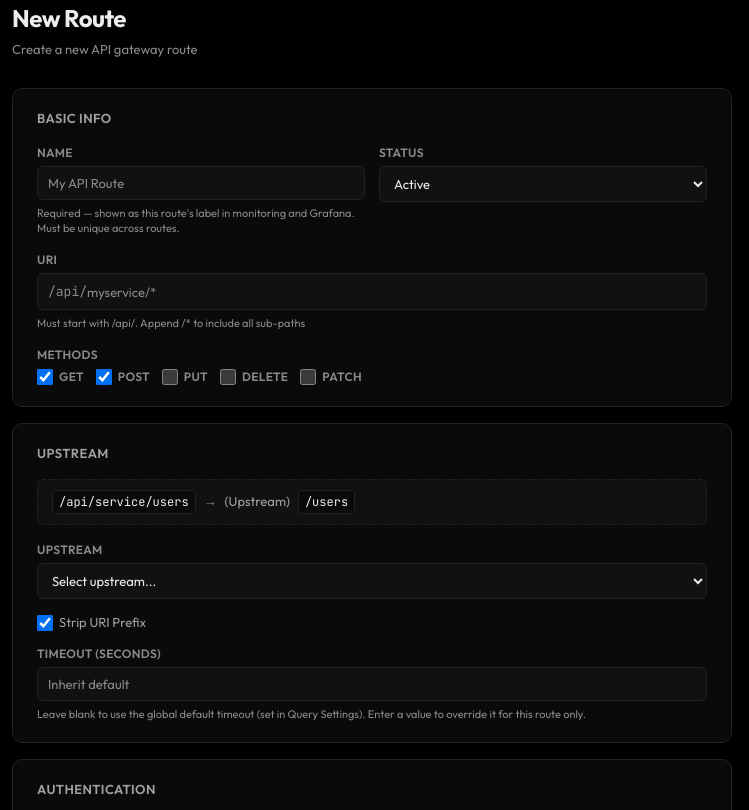
Scenario: GatewayRouteForm › shows backend and generic save errors
Type "orders-route" into the field labelled "Name" at (201, 183), box left=37, top=166, right=365, bottom=200
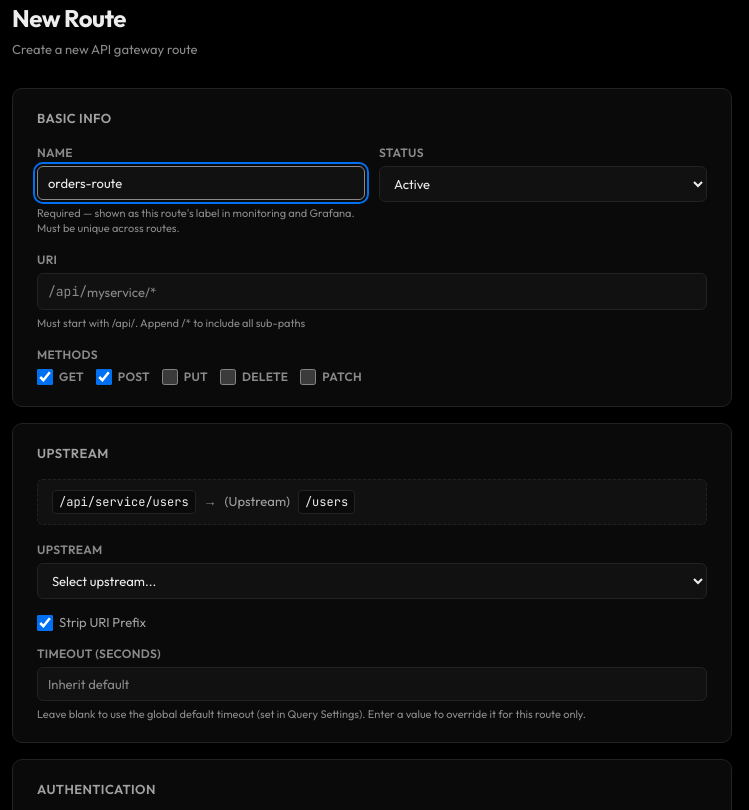
Type "orders/*" into the field labelled "URI" at (396, 292), box left=87, top=276, right=706, bottom=308
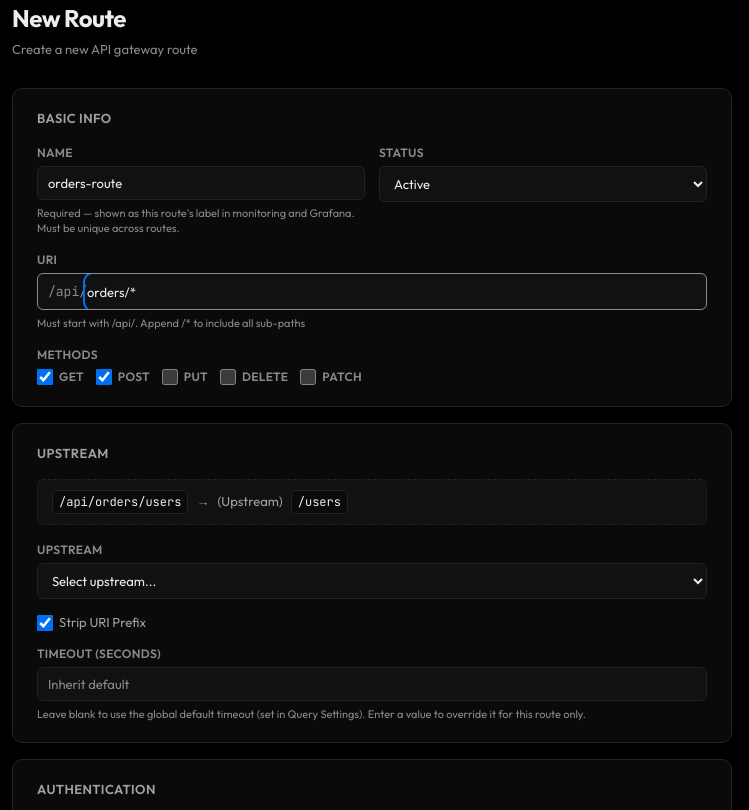
Select "test-upstream" in the dropdown labelled "Upstream" at (372, 581), box left=37, top=563, right=707, bottom=599
(page scrolled)
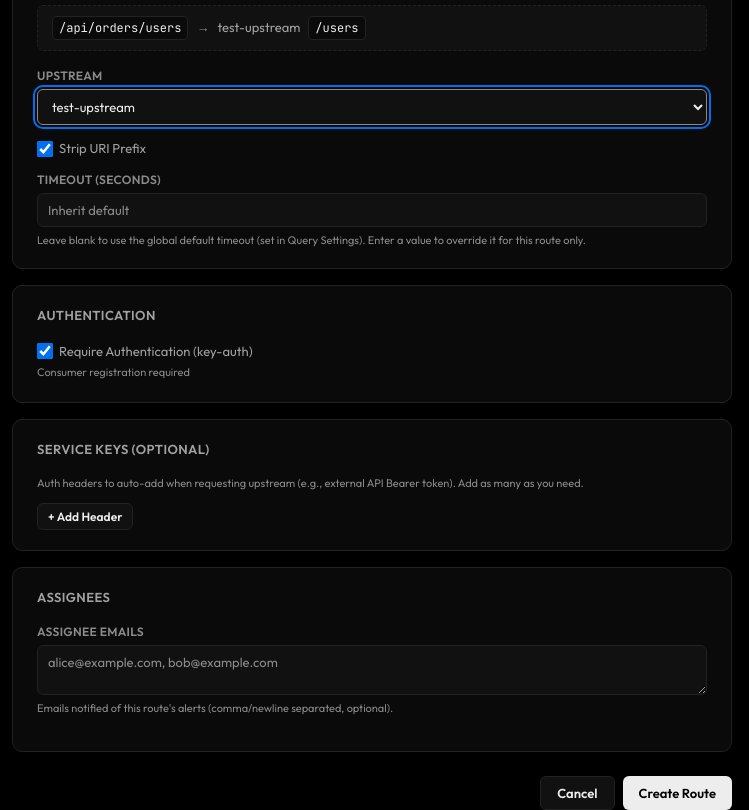
Click the button "Create Route" at (677, 793), box left=622, top=776, right=732, bottom=809
(page scrolled)
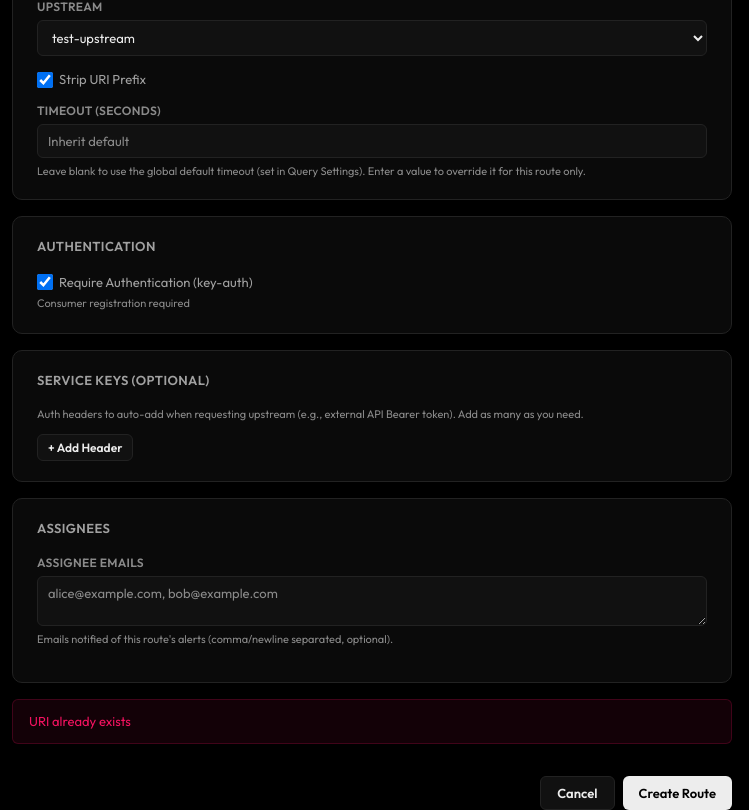
Check: the message reads "URI already exists", box left=29, top=713, right=131, bottom=729
Click the button "Create Route" at (677, 793), box left=622, top=776, right=732, bottom=809
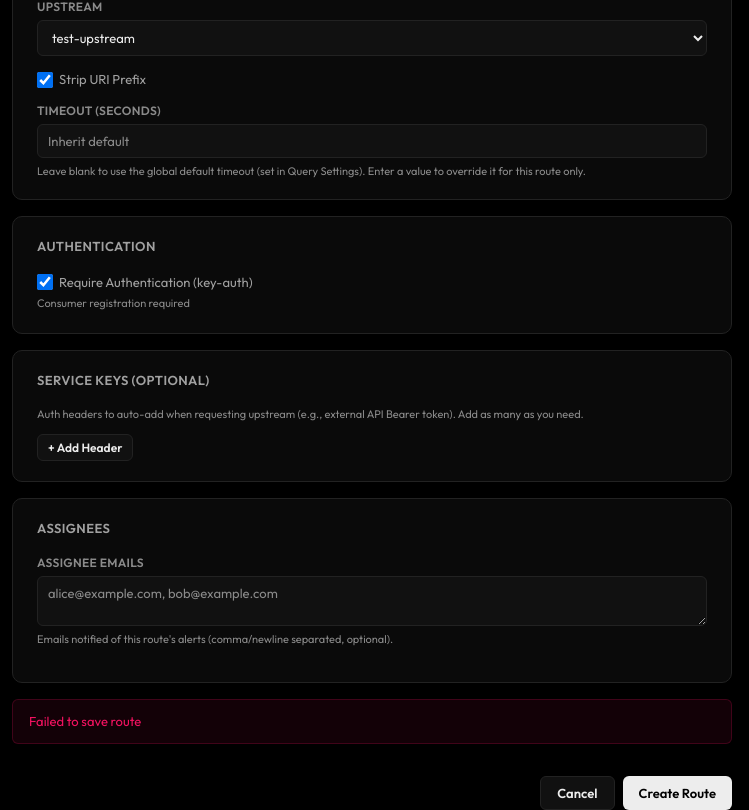
Check: the message reads "Failed to save route", box left=29, top=713, right=141, bottom=729
